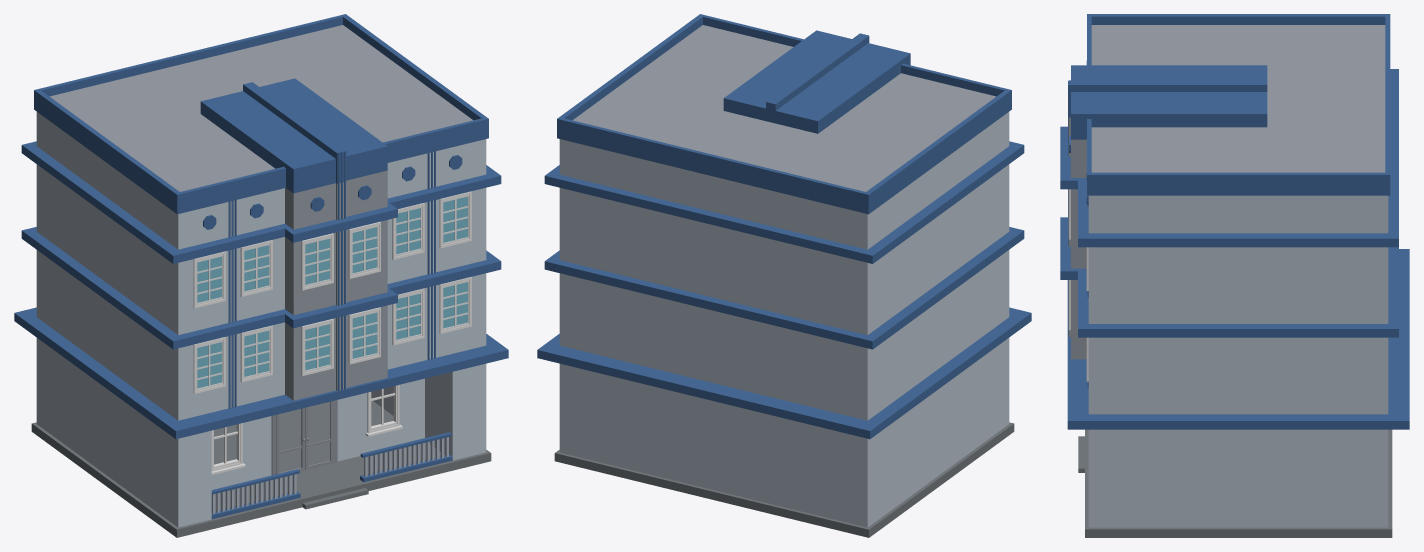
File: House_07.fbx
3 renders of one model, left to right at view 1: azimuth 30°, elevation 25°; view 2: azimuth 150°, elevation 25°; view 3: azimuth 270°, elevation 25°, orthographic. The views are drawn at different scales.
Parts seen in each view (by area): view 1: House_07, House_07_Door2, House_07_Door1; view 2: House_07; view 3: House_07.
Boxes of the visible parts, x1,y1,x2,y2 form: House_07: (14, 14, 508, 537); House_07_Door2: (305, 401, 333, 469); House_07_Door1: (276, 408, 305, 474); House_07: (537, 14, 1031, 537); House_07: (1060, 14, 1409, 537).
Bounding box in the file's own units: 1059 × 1074 × 909.
